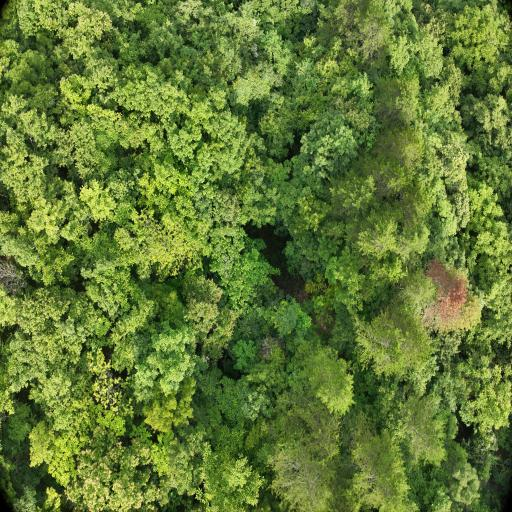sick-tree: (431, 258, 461, 312)
